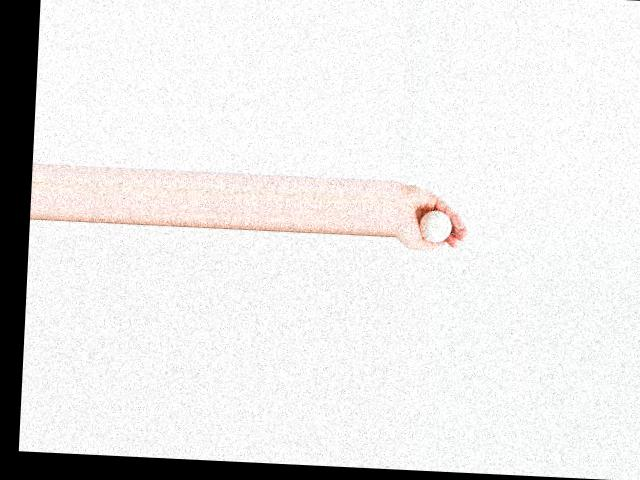egg: (419, 209, 452, 242)
